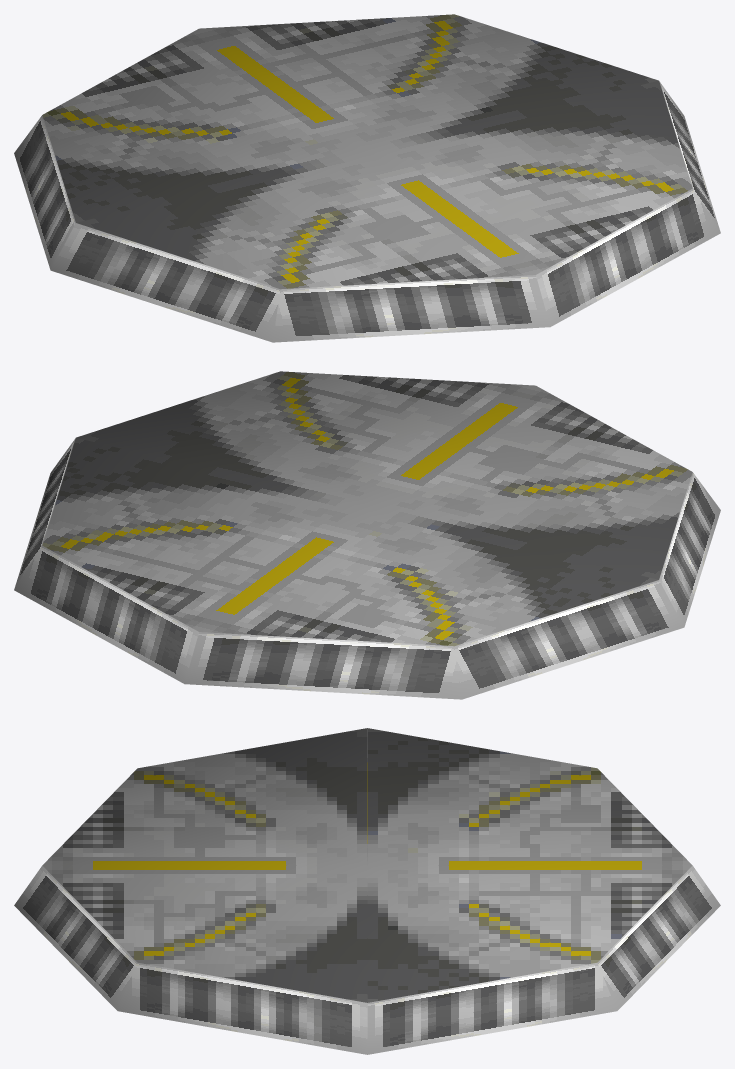
Rendered from RobotAssemblyBayX_Anim.glb.
3 renders of one model, top to bottom at view 1: azimuth 30°, elevation 25°; view 2: azimuth 150°, elevation 25°; view 3: azimuth 270°, elevation 25°, orthographic. The views are drawn at different scales.
Visible parts, largest first — view 1: RobotAssemblyBayX_Anim_part00; view 2: RobotAssemblyBayX_Anim_part00; view 3: RobotAssemblyBayX_Anim_part00.
Part boxes in pixels (x1,y1,x2,y2): RobotAssemblyBayX_Anim_part00: [14, 14, 720, 342]; RobotAssemblyBayX_Anim_part00: [14, 371, 720, 699]; RobotAssemblyBayX_Anim_part00: [14, 728, 720, 1054].
Bounding box in the file's own units: 32 × 2 × 32.
Materials: 5 (5 with a texture image).
